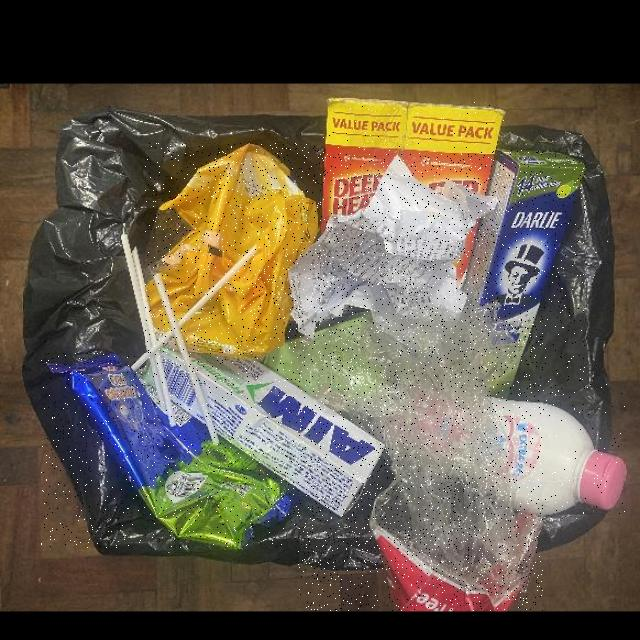paper: (145, 348, 385, 516), (290, 155, 498, 348), (322, 99, 505, 286), (462, 151, 585, 399)
plastic: (297, 301, 543, 611), (367, 382, 625, 515)
wrapper: (41, 353, 305, 548), (146, 144, 319, 362)
